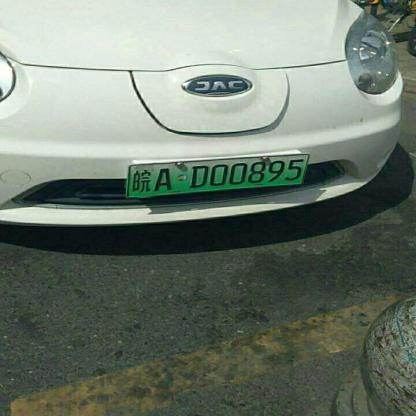lp: (126, 153, 308, 198)
